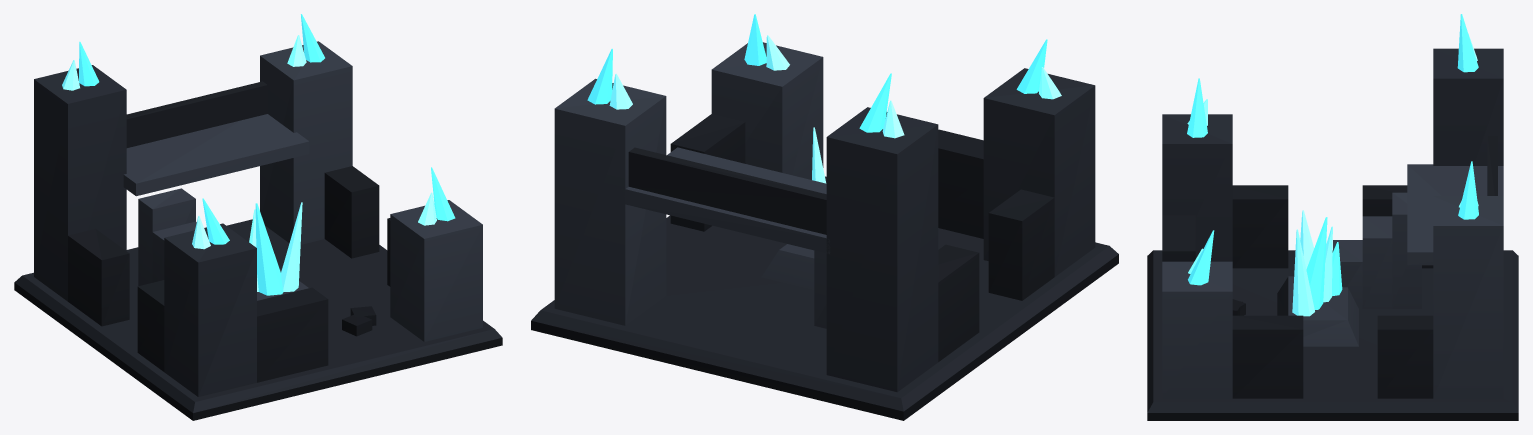
File: crystal-shrine.glb
3 renders of one model, left to right at view 1: azimuth 30°, elevation 25°; view 2: azimuth 150°, elevation 25°; view 3: azimuth 270°, elevation 25°, orthographic. The views are drawn at different scales.
Size of the model in its own units: 5 by 4 by 5.
